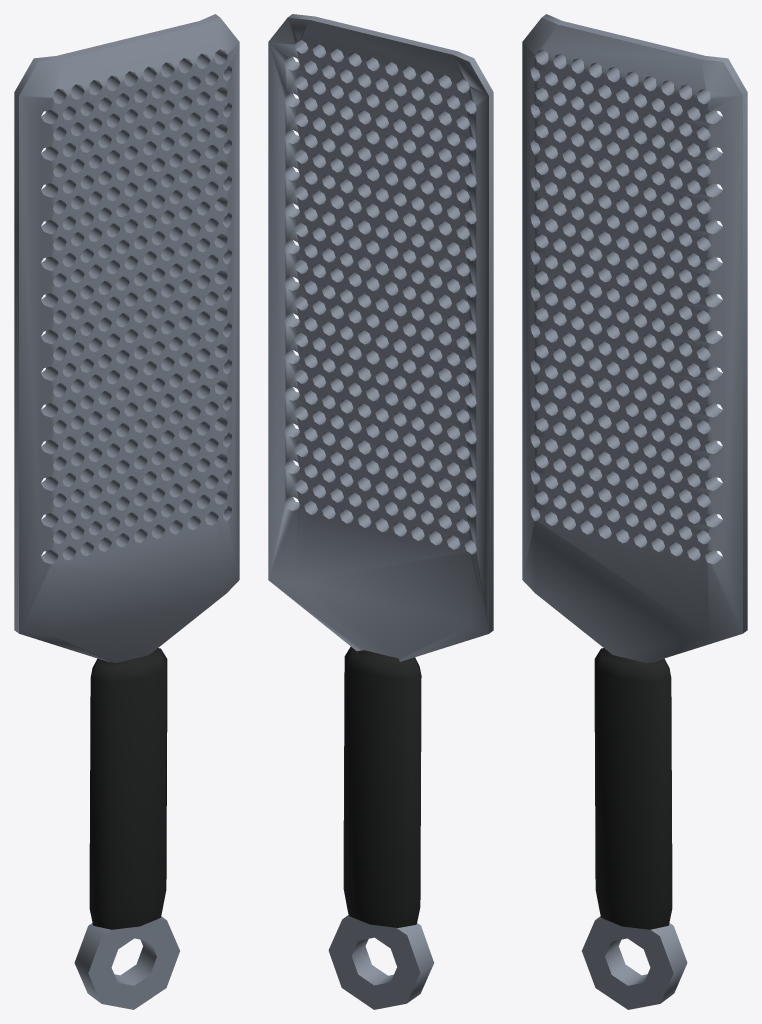
Rendered from Grater.glb.
3 renders of one model, left to right at view 1: azimuth 30°, elevation 25°; view 2: azimuth 150°, elevation 25°; view 3: azimuth 330°, elevation 25°, orthographic.
Parts seen in each view (by area): view 1: cutensils_grater_Cylinder.045; view 2: cutensils_grater_Cylinder.045; view 3: cutensils_grater_Cylinder.045.
Boxes of the visible parts, x1=… form: cutensils_grater_Cylinder.045: x1=14, y1=14, x2=239, y2=1009; cutensils_grater_Cylinder.045: x1=268, y1=14, x2=493, y2=1009; cutensils_grater_Cylinder.045: x1=522, y1=14, x2=747, y2=1009.
Size of the model in its own units: 1.6 by 6.7 by 0.3457.
1 material, 1 textured.
